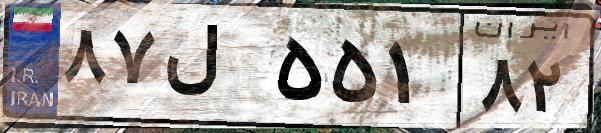1: (385, 28, 445, 110)
2: (525, 38, 570, 115)
5: (270, 28, 330, 110), (330, 28, 385, 110)
7: (110, 28, 158, 98)
8: (57, 26, 110, 100), (475, 38, 525, 113)
ل: (158, 20, 270, 120)
